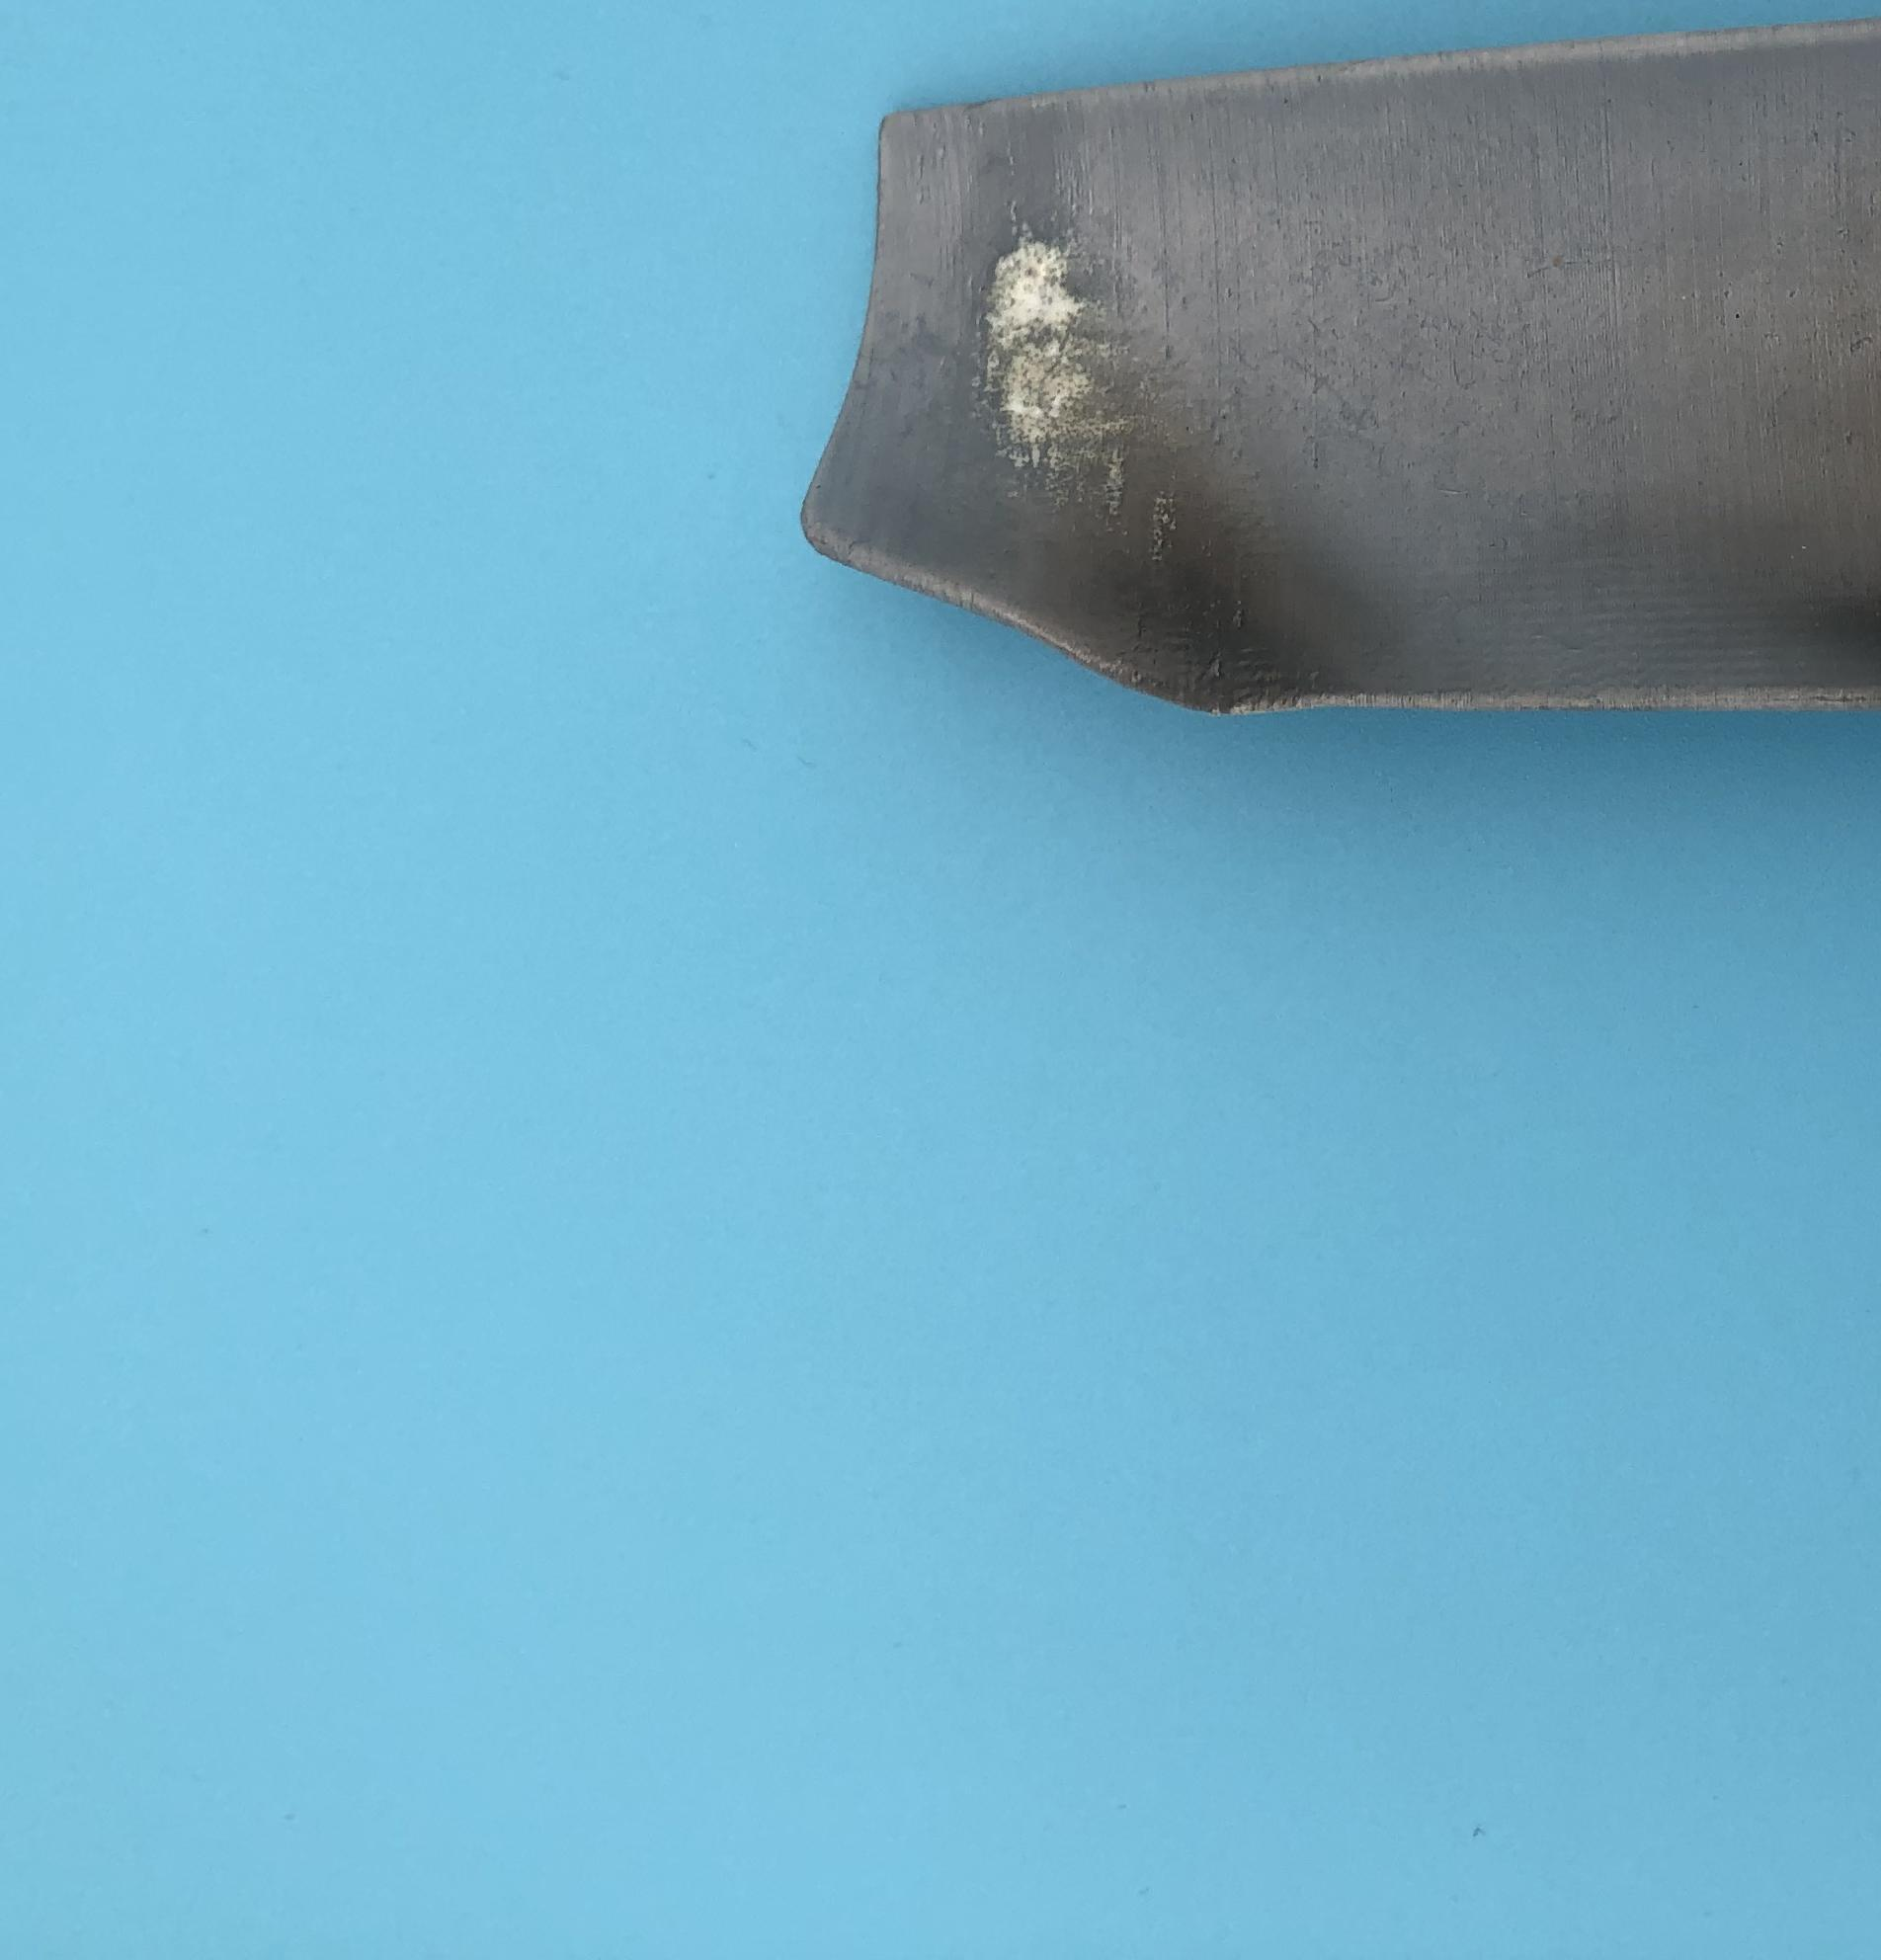ablation: (1039, 397, 1328, 700), (1748, 339, 1878, 693)
